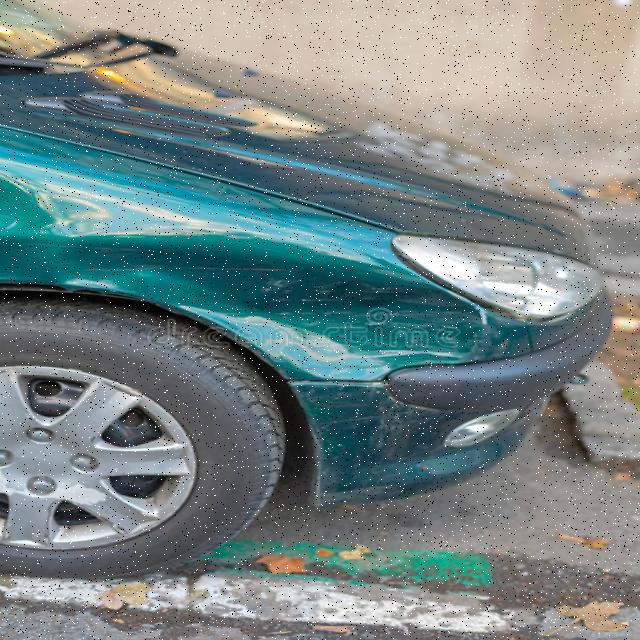fender-dent: (0, 223, 474, 386)
